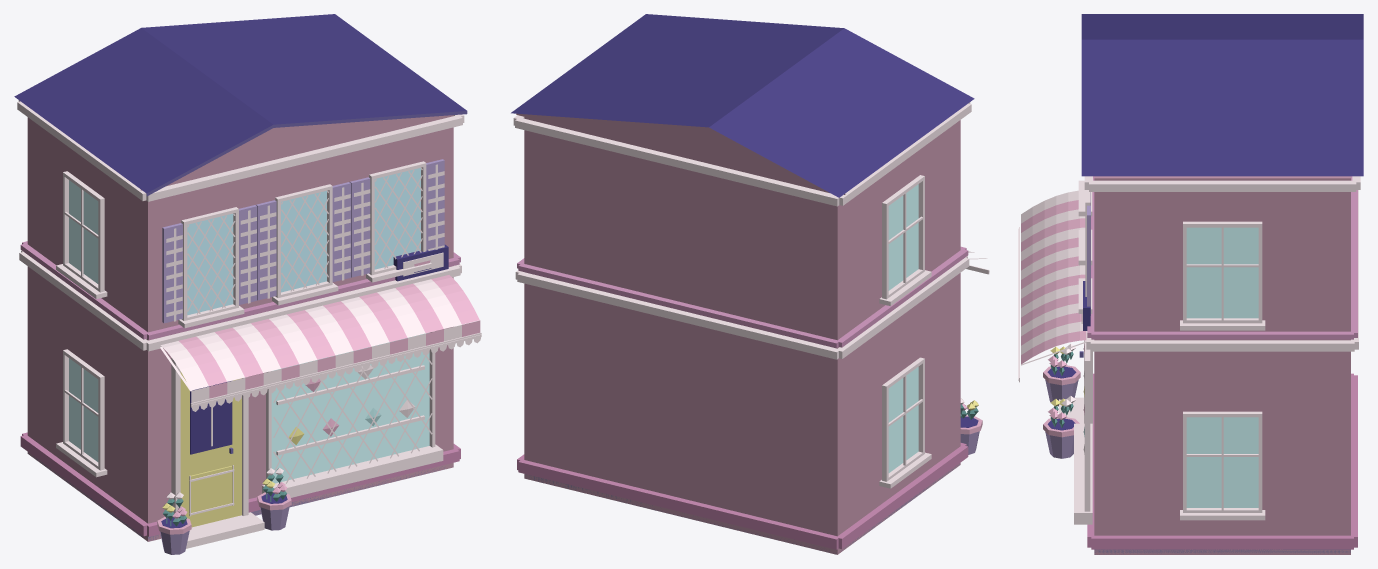
Rendered from rose-cafe.glb.
3 views of the same model, side by side, from view 1: azimuth 30°, elevation 25°; view 2: azimuth 150°, elevation 25°; view 3: azimuth 270°, elevation 25° (orthographic). The views are drawn at different scales.
Parts seen in each view (by area): view 1: wall, details, roof, windows, awning, blinds, door; view 2: wall, roof, details, windows; view 3: wall, roof, details, windows, awning, blinds.
Boxes of the visible parts, x1,y1,x2,y2 form: wall: (27, 115, 453, 541); details: (17, 100, 464, 554); roof: (14, 14, 467, 196); windows: (69, 168, 429, 483); awning: (160, 275, 481, 411); blinds: (162, 159, 444, 323); door: (180, 371, 241, 527); wall: (516, 113, 960, 554); roof: (511, 14, 974, 197); details: (513, 102, 982, 549); windows: (888, 184, 918, 472); wall: (1094, 176, 1350, 554); roof: (1081, 14, 1363, 176); details: (1043, 176, 1360, 549); windows: (1186, 227, 1258, 507); awning: (1018, 190, 1086, 382); blinds: (1087, 192, 1090, 315).
Size of the model in its own units: 4.74 by 5.4 by 4.04.
